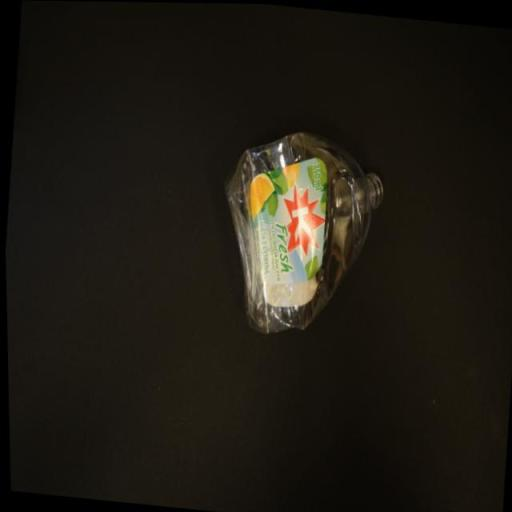plastic: (207, 122, 388, 344)
